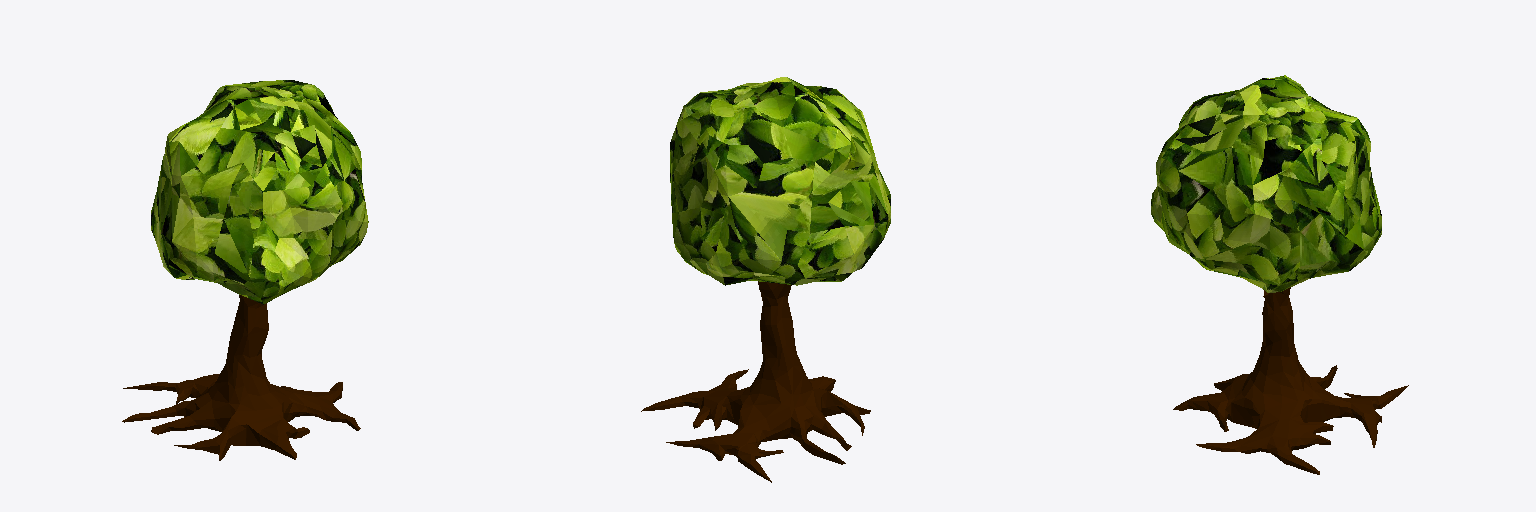
3 views of the same model, side by side, from view 1: azimuth 30°, elevation 25°; view 2: azimuth 150°, elevation 25°; view 3: azimuth 270°, elevation 25° (orthographic).
Parts seen in each view (by area): view 1: Feuillage_Cube, Tronc_Cube.001; view 2: Feuillage_Cube, Tronc_Cube.001; view 3: Feuillage_Cube, Tronc_Cube.001.
Part boxes in pixels (bbox=[...]): Feuillage_Cube: bbox=[151, 80, 368, 304]; Tronc_Cube.001: bbox=[122, 295, 360, 460]; Feuillage_Cube: bbox=[670, 77, 890, 285]; Tronc_Cube.001: bbox=[641, 281, 870, 482]; Feuillage_Cube: bbox=[1151, 75, 1381, 292]; Tronc_Cube.001: bbox=[1173, 287, 1408, 474].
Size of the model in its own units: 8.61 by 12.9 by 9.02.
2 materials, 1 textured.